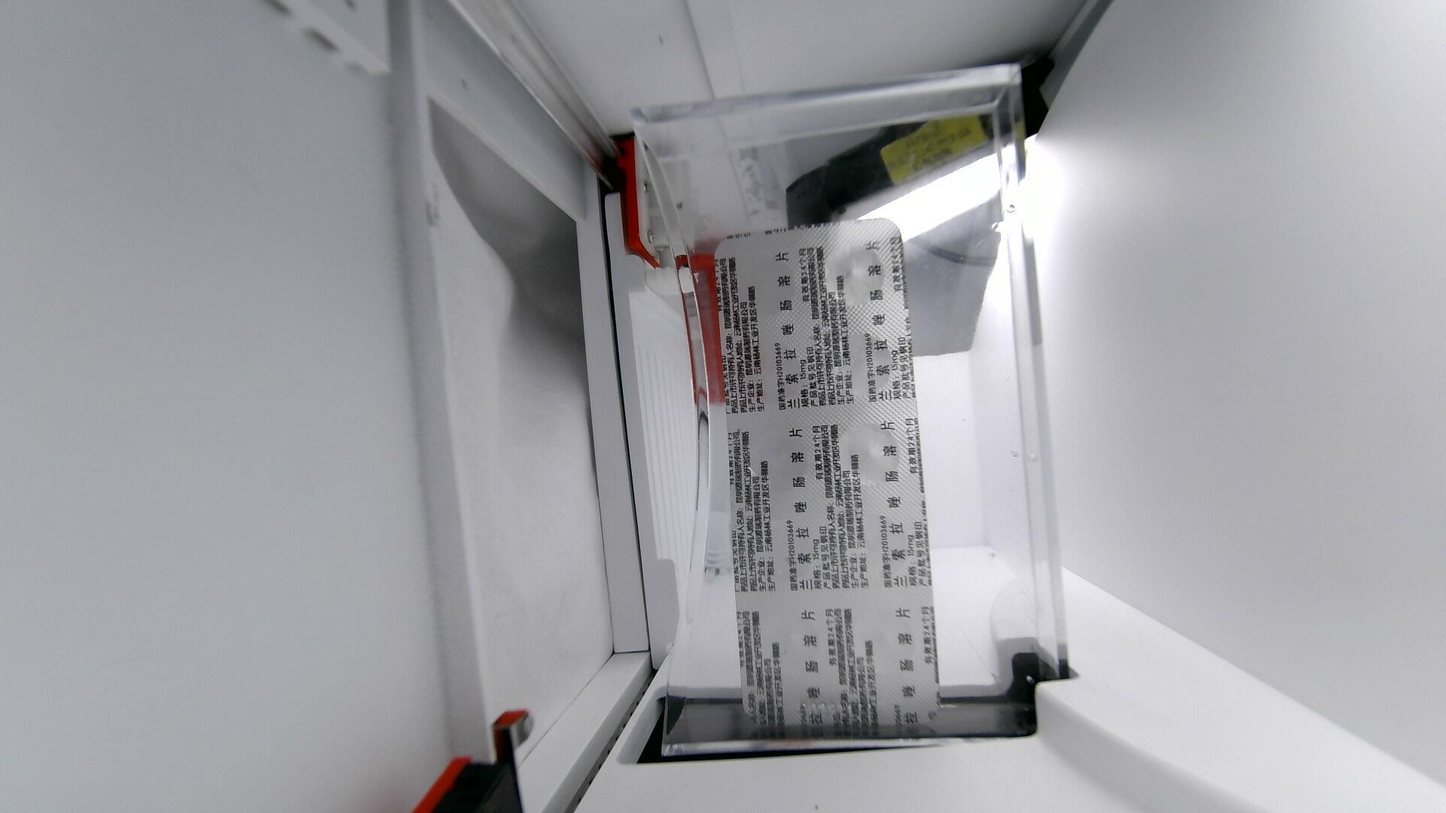Pill Back: (750, 518, 820, 591), (737, 325, 807, 395), (762, 605, 826, 681), (831, 327, 895, 396), (838, 421, 902, 488), (749, 425, 814, 490), (857, 606, 920, 673), (731, 247, 795, 312), (853, 516, 913, 580), (824, 248, 890, 301)
